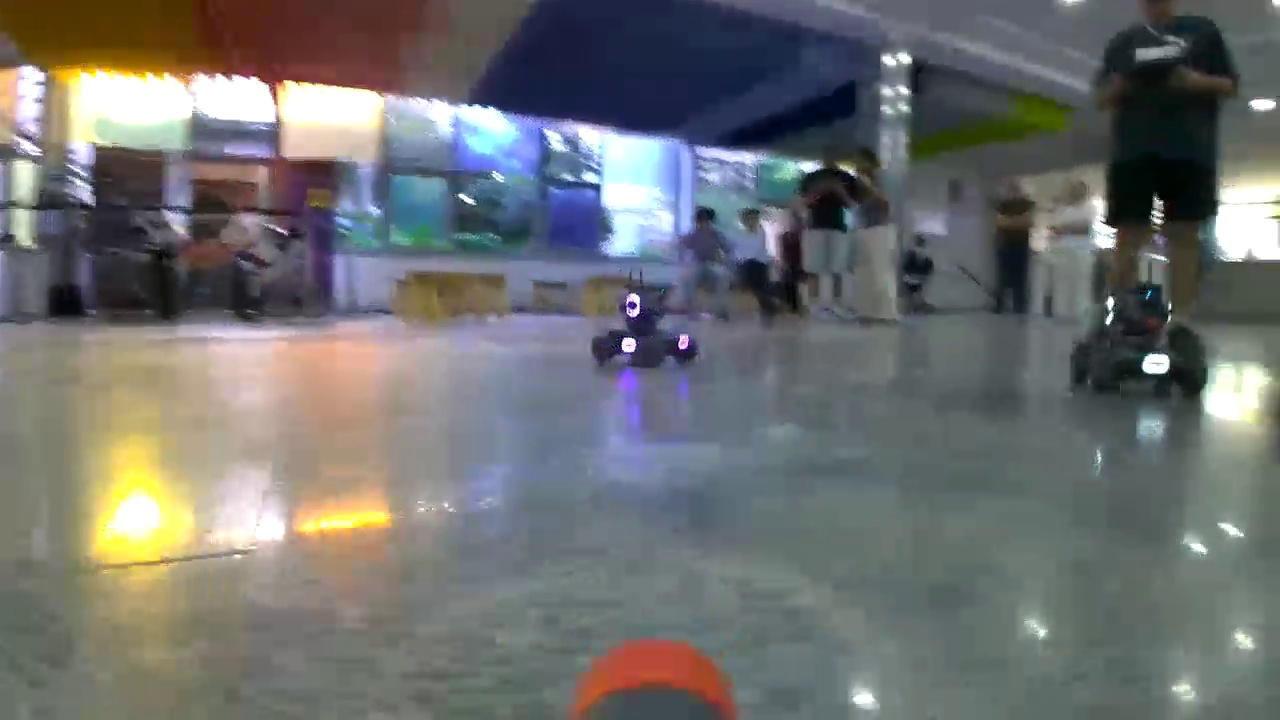robot: (1072, 282, 1200, 388), (592, 286, 703, 367)
